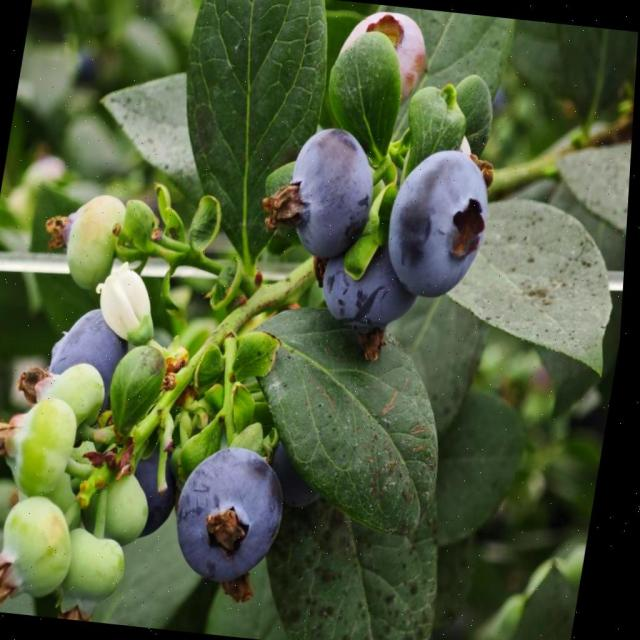RipeBlueBerry: (382, 142, 499, 303), (174, 444, 298, 585), (274, 124, 384, 264)
UnripeBlueBerry: (0, 492, 86, 608), (47, 193, 130, 290)
